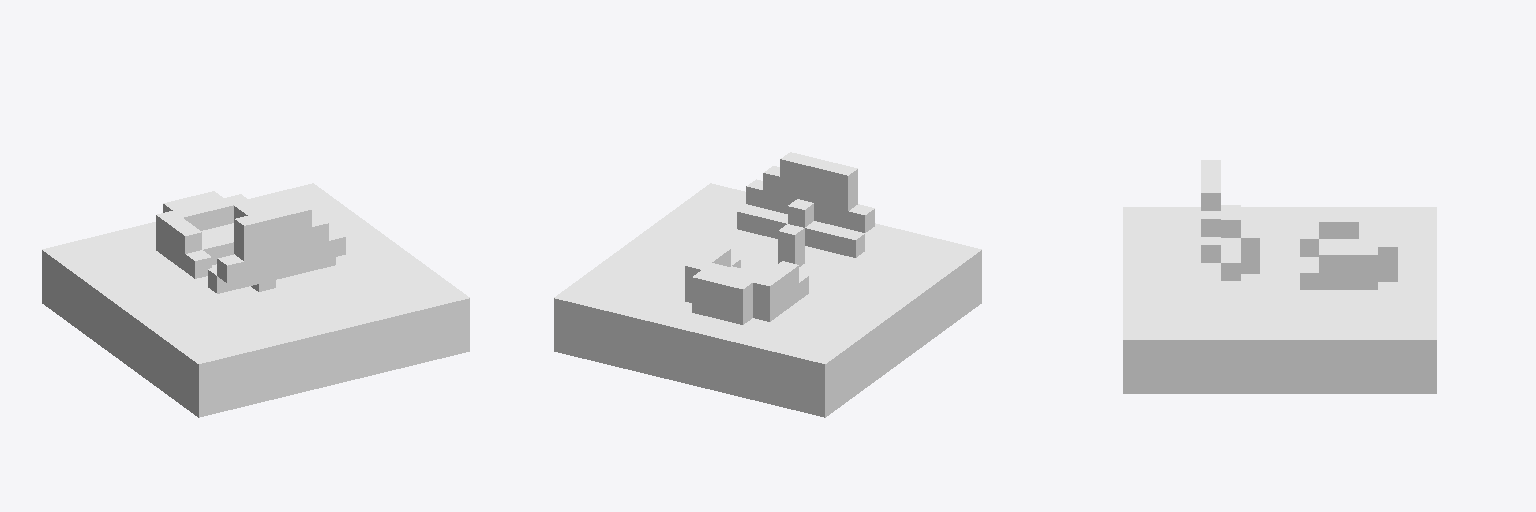
Rendered from sunkboat.obj.
3 renders of one model, left to right at view 1: azimuth 30°, elevation 25°; view 2: azimuth 150°, elevation 25°; view 3: azimuth 270°, elevation 25°, orthographic.
Parts seen in each view (by area): view 1: sunkboat; view 2: sunkboat; view 3: sunkboat.
Boxes of the visible parts, x1=… form: sunkboat: x1=42, y1=183, x2=469, y2=417; sunkboat: x1=554, y1=152, x2=981, y2=417; sunkboat: x1=1123, y1=160, x2=1436, y2=393.
Size of the model in its own units: 16 by 8 by 16.